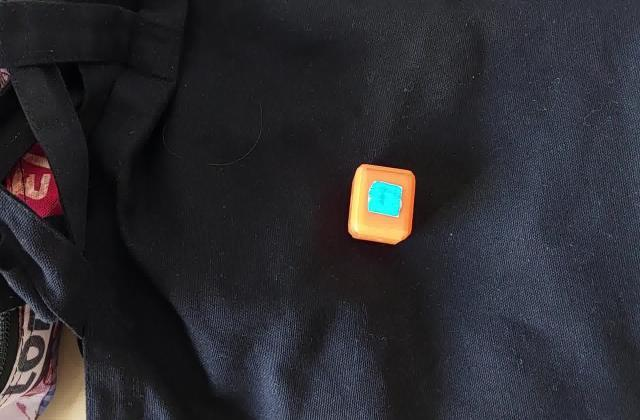blue: (375, 186, 396, 211)
sticker: (344, 160, 416, 246)
